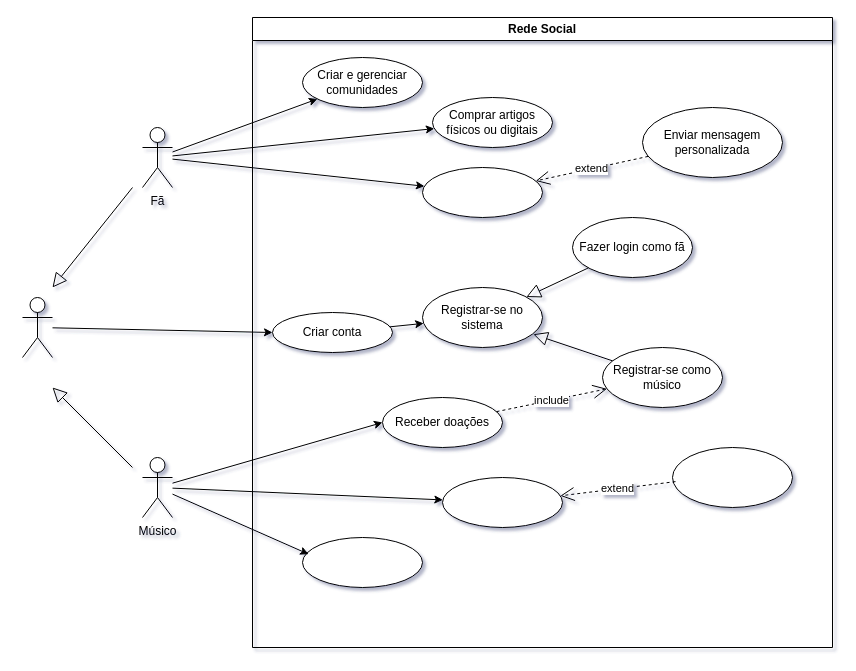
Some shapes in this 856 by 671 pixel diagram are drawn without their labels. Here are the shapes that lost their labels. From the top down, the centre of each, then its label:
At pixel 482 192: "Doar ao artista".
At pixel 37 327: "Usuário".
At pixel 732 477: "Monetizar os arquivos".
At pixel 502 502: "Realizar upload de músicas".
At pixel 362 562: "Disponibilizar itens para venda".
